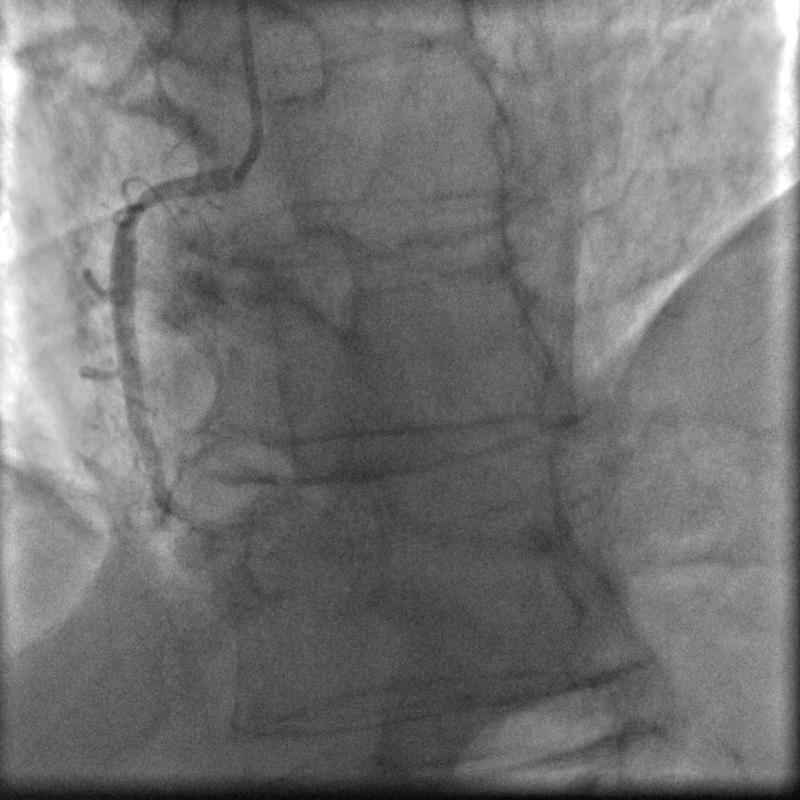Stenosis: (115, 186, 150, 233)
